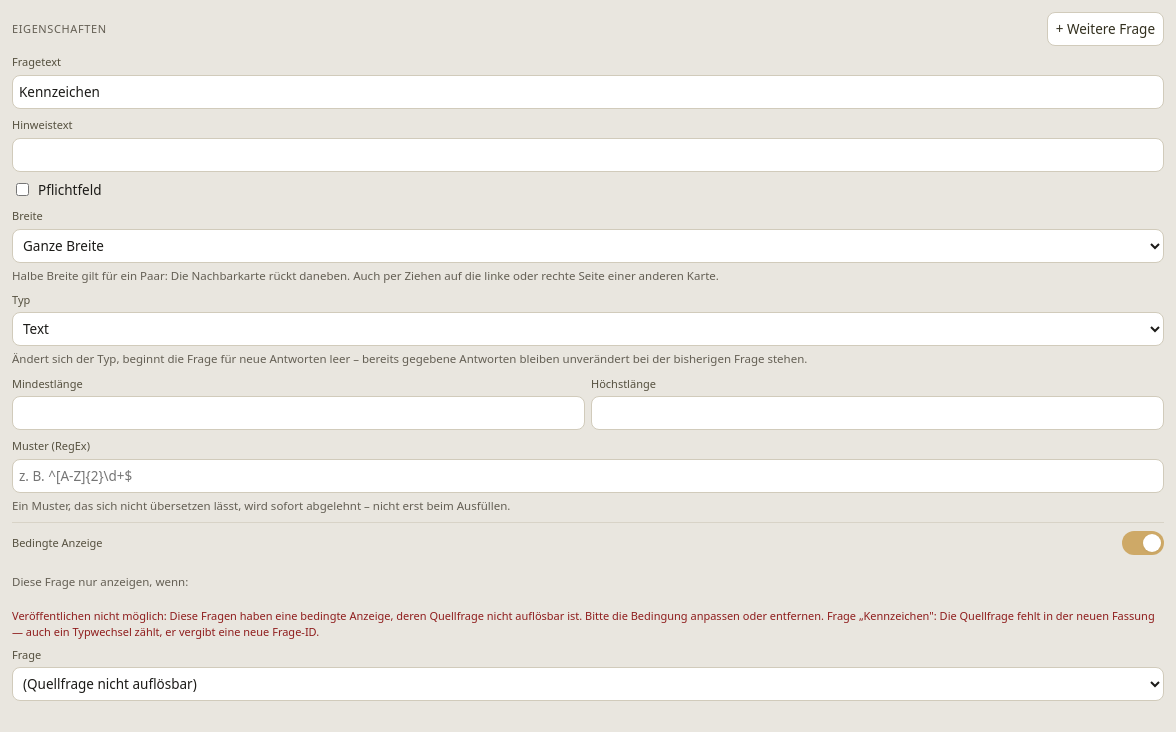
Test: QuestionProperties – eine Bedingung, die ins Leere zeigt › lets the editor repair it by picking another Quellfrage
This screenshot has width=1176, height=732.
Select "Alter" in the dropdown labelled "Frage": coordinates (588, 684) [12,667,1164,701]
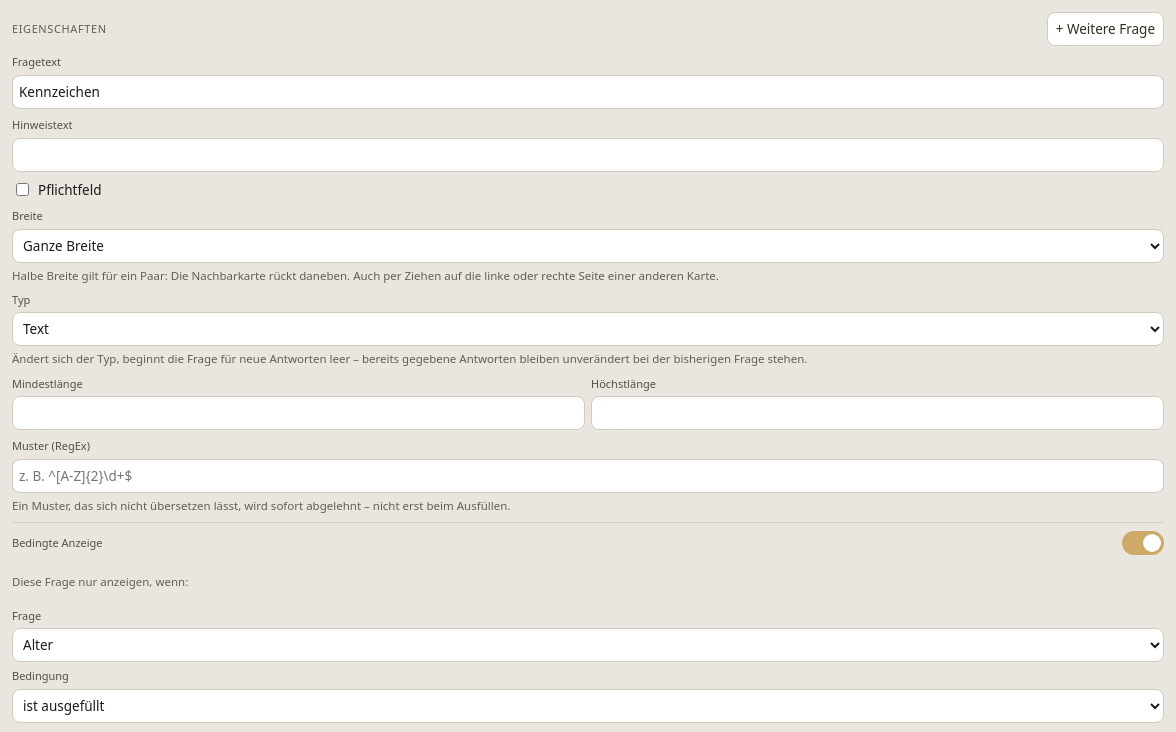
Expected: the message is gone
